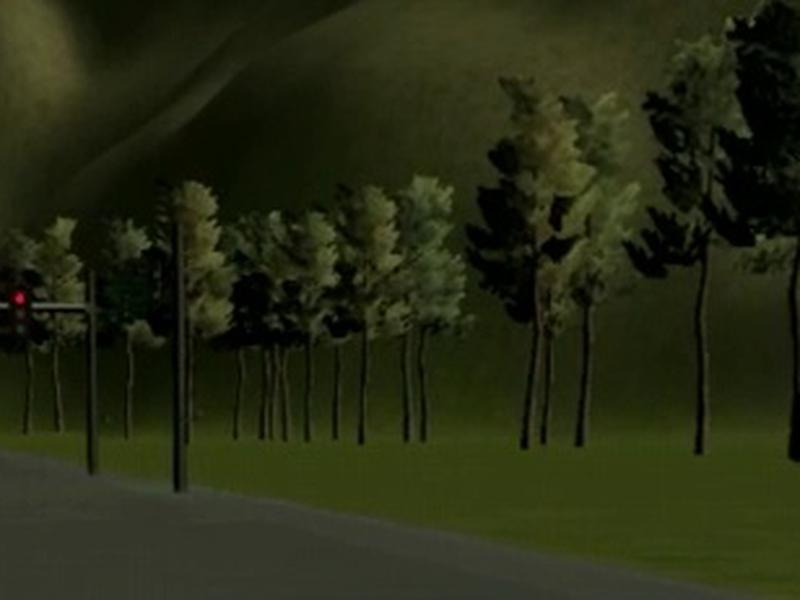Red: (11, 286, 30, 336)
